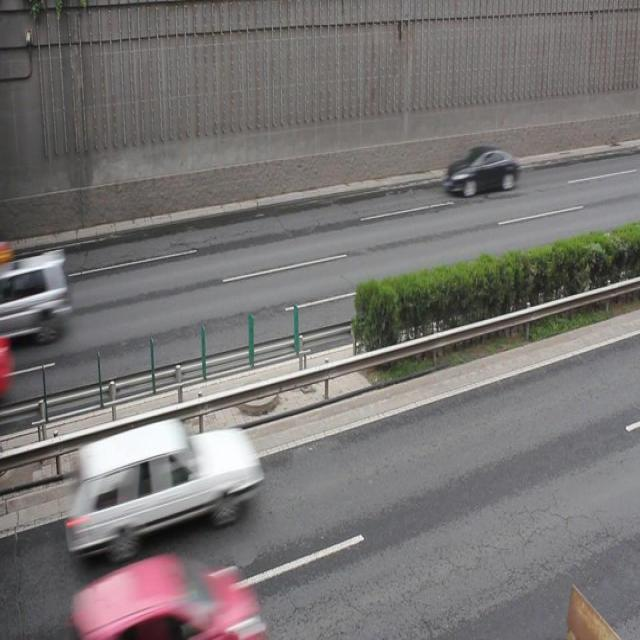car: (72, 550, 256, 640), (442, 142, 518, 197)
truck: (67, 418, 260, 550)
